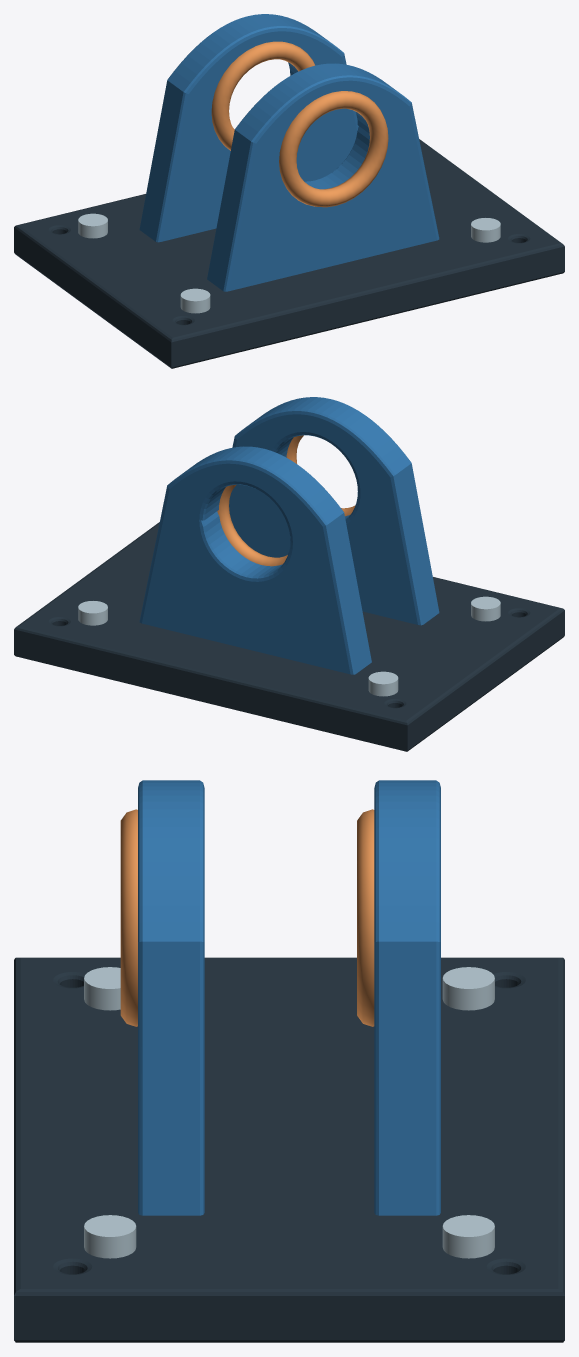
Rendered from fixture.glb.
3 renders of one model, top to bottom at view 1: azimuth 30°, elevation 25°; view 2: azimuth 150°, elevation 25°; view 3: azimuth 270°, elevation 25°, orthographic. The views are drawn at different scales.
Visible parts, largest first — view 1: fixture; view 2: fixture; view 3: fixture.
Part boxes in pixels (x1,y1,x2,y2): fixture: (14,14,564,368); fixture: (14,397,564,751); fixture: (14,780,564,1342).
Bounding box in the file's own units: 4.88 × 2.58 × 3.38.
